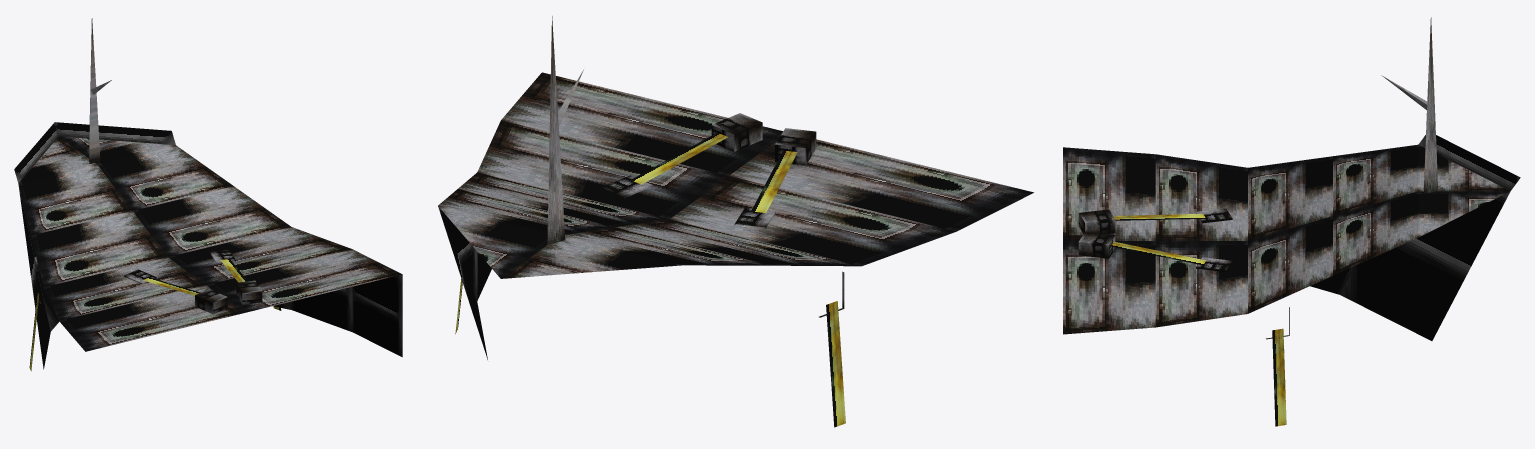
3 renders of one model, left to right at view 1: azimuth 30°, elevation 25°; view 2: azimuth 150°, elevation 25°; view 3: azimuth 270°, elevation 25°, orthographic. The views are drawn at different scales.
Parts seen in each view (by area): view 1: prim129-bow; view 2: prim129-bow; view 3: prim129-bow.
Part boxes in pixels (left/top/right/bottom): prim129-bow: left=14, top=18, right=402, bottom=371; prim129-bow: left=438, top=16, right=1033, bottom=427; prim129-bow: left=1063, top=17, right=1520, bottom=426.
Size of the model in its own units: 1534 by 1295 by 1585.
Materials: 4 (4 with a texture image).
